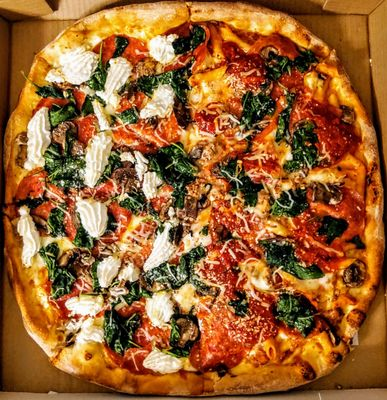curry: (260, 239, 322, 280), (273, 293, 315, 335)
